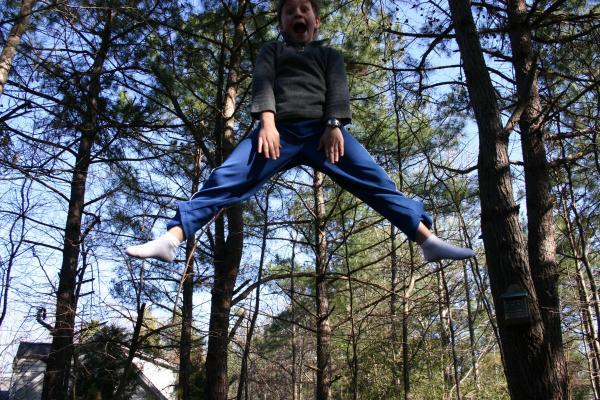person: (124, 1, 475, 265)
